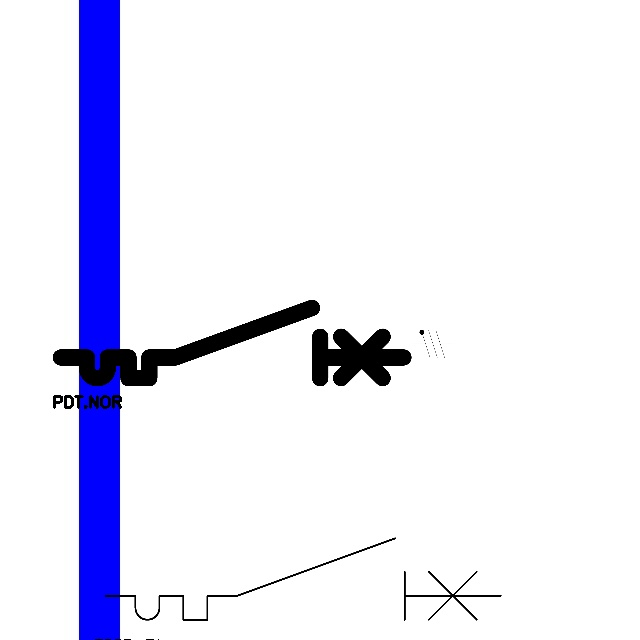interruptor_termomagnetico: (95, 528, 511, 630), (52, 299, 412, 387)
